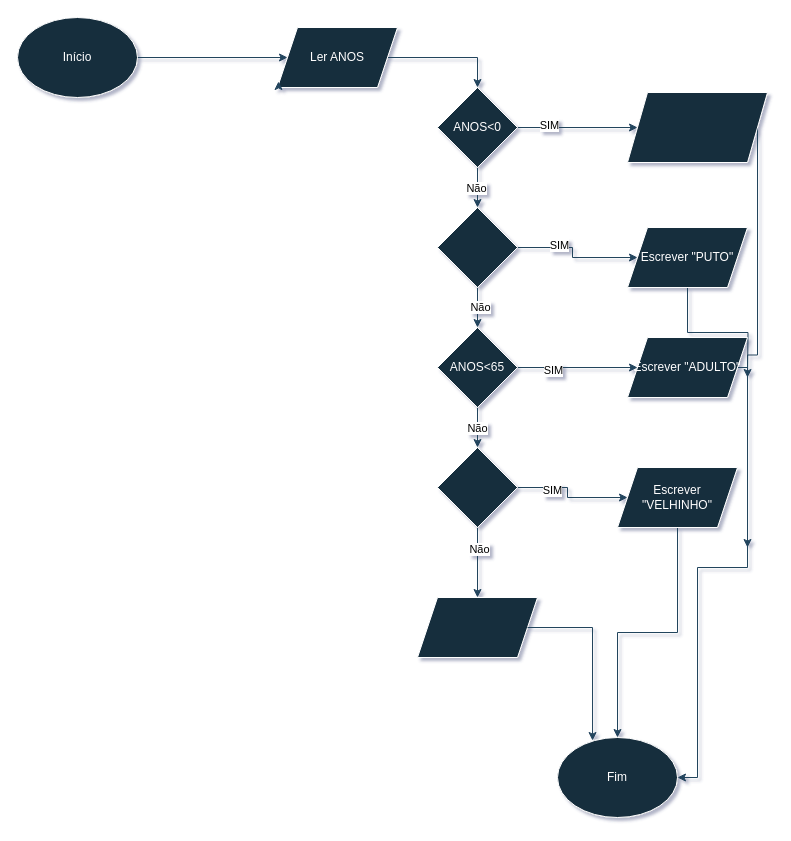
Image size: 791x841. Some labels were removed from this diagram. The centre of each missing label's shape, as x and y in pixels:
ANOS<151: (x=477, y=487)
ANOS<18: (x=477, y=247)
Escrever "A tua inteligência também é negativa.": (x=697, y=127)
Escrever "Múmia": (x=477, y=627)
